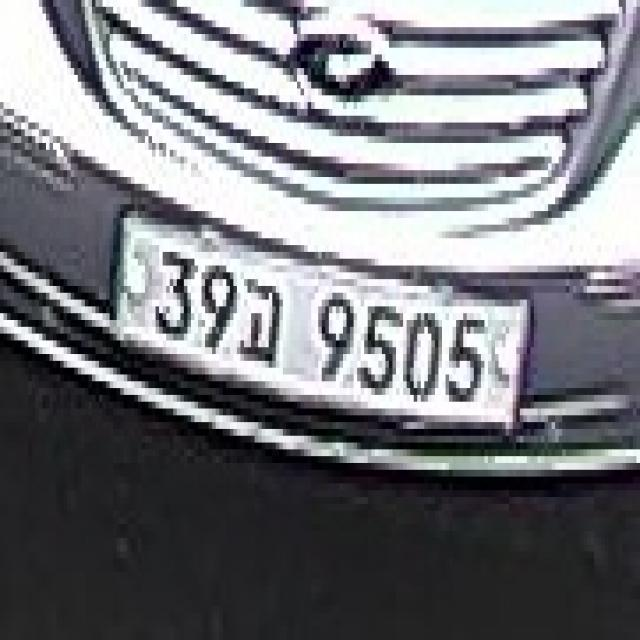0: (400, 306, 442, 402)
3: (152, 245, 198, 334)
5: (354, 299, 399, 402), (442, 306, 484, 408)
9: (314, 293, 354, 388), (198, 259, 237, 354)
go: (237, 272, 283, 374)
license_plate: (110, 204, 530, 456)
